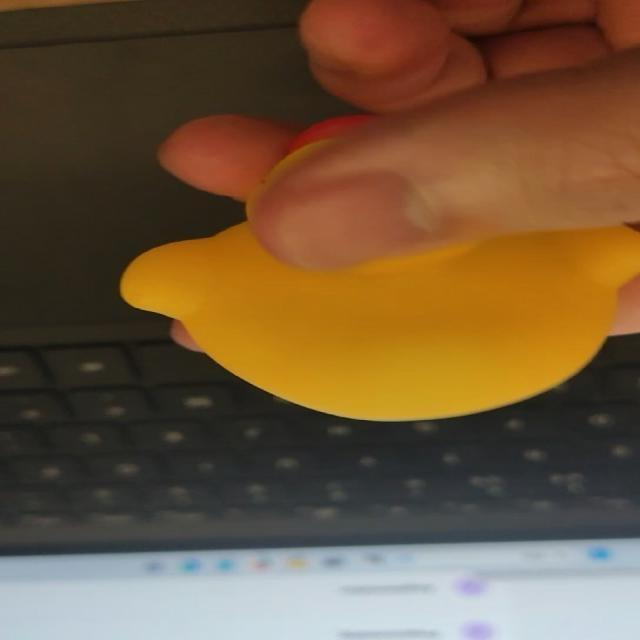rubber-duck: (120, 111, 638, 418), (274, 151, 423, 195)
